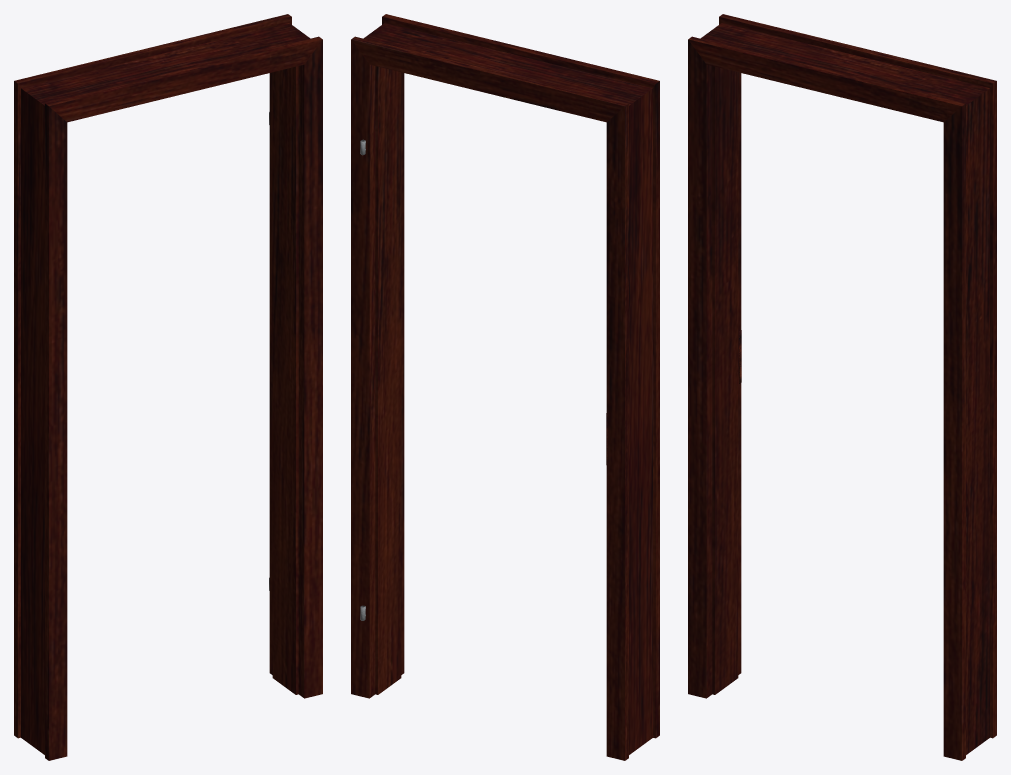
Rendered from door_frame.obj.
3 views of the same model, side by side, from view 1: azimuth 30°, elevation 25°; view 2: azimuth 150°, elevation 25°; view 3: azimuth 330°, elevation 25° (orthographic).
Visible parts, largest first — view 1: door-frame; view 2: door-frame; view 3: door-frame.
Boxes of the visible parts, bbox=[...] form: door-frame: bbox=[14, 14, 322, 760]; door-frame: bbox=[351, 14, 659, 760]; door-frame: bbox=[688, 14, 996, 760].
Size of the model in its own units: 0.9021 by 2.06 by 0.2194.
